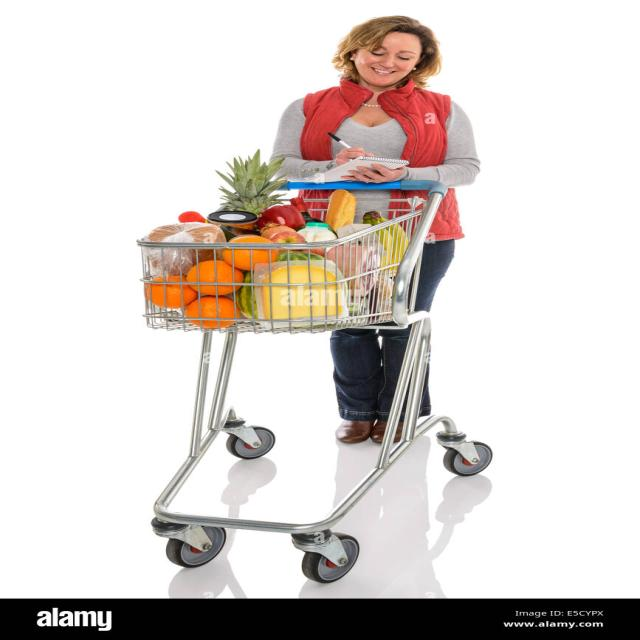Person: (272, 15, 479, 443)
